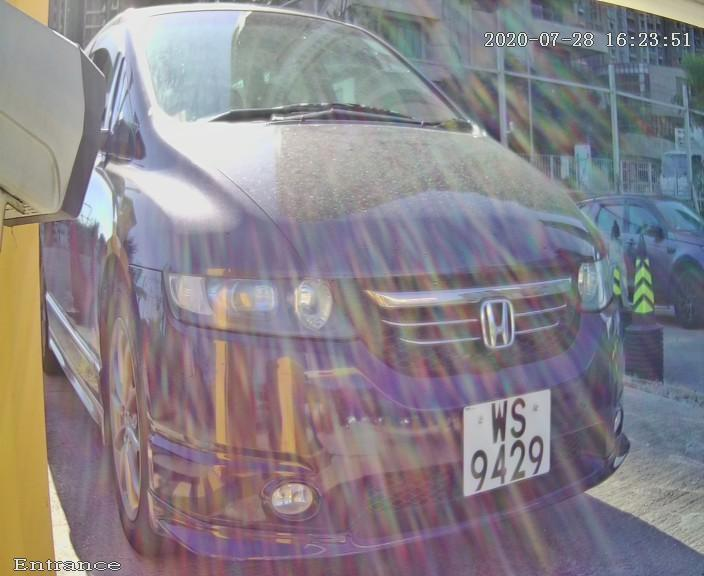privatecar: (16, 13, 701, 564)
